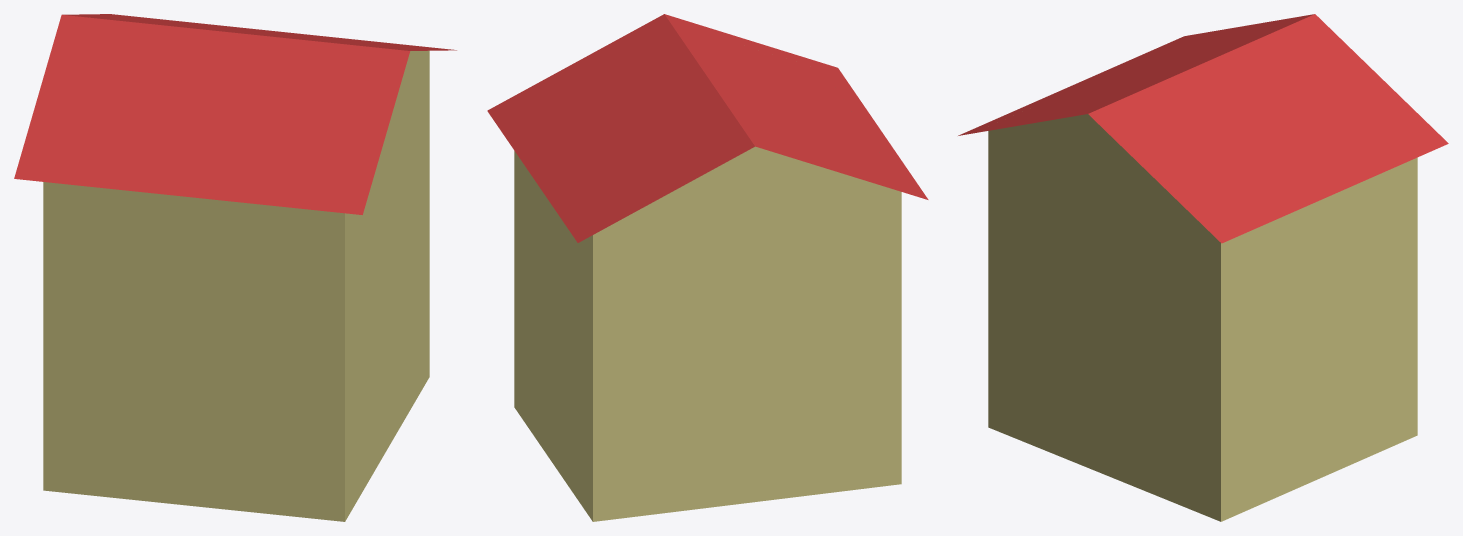
The picture shows the model from 3 angles, left to right: view 1: azimuth 30°, elevation 25°; view 2: azimuth 150°, elevation 25°; view 3: azimuth 270°, elevation 25°; orthographic projection. The views are drawn at different scales.
Visible parts, largest first — view 1: group_5, group_3, group_4; view 2: group_5, group_3, group_4; view 3: group_5, group_3, group_4.
Part boxes in pixels (x1,y1,x2,y2): group_5: (43,50,429,521); group_3: (14,14,456,214); group_4: (65,15,420,214); group_5: (514,146,901,521); group_3: (487,14,928,242); group_4: (548,14,887,164); group_5: (988,114,1417,521); group_3: (965,14,1448,243); group_4: (958,14,1322,203).
Bounding box in the file's own units: 16.68 × 16.72 × 13.76.
